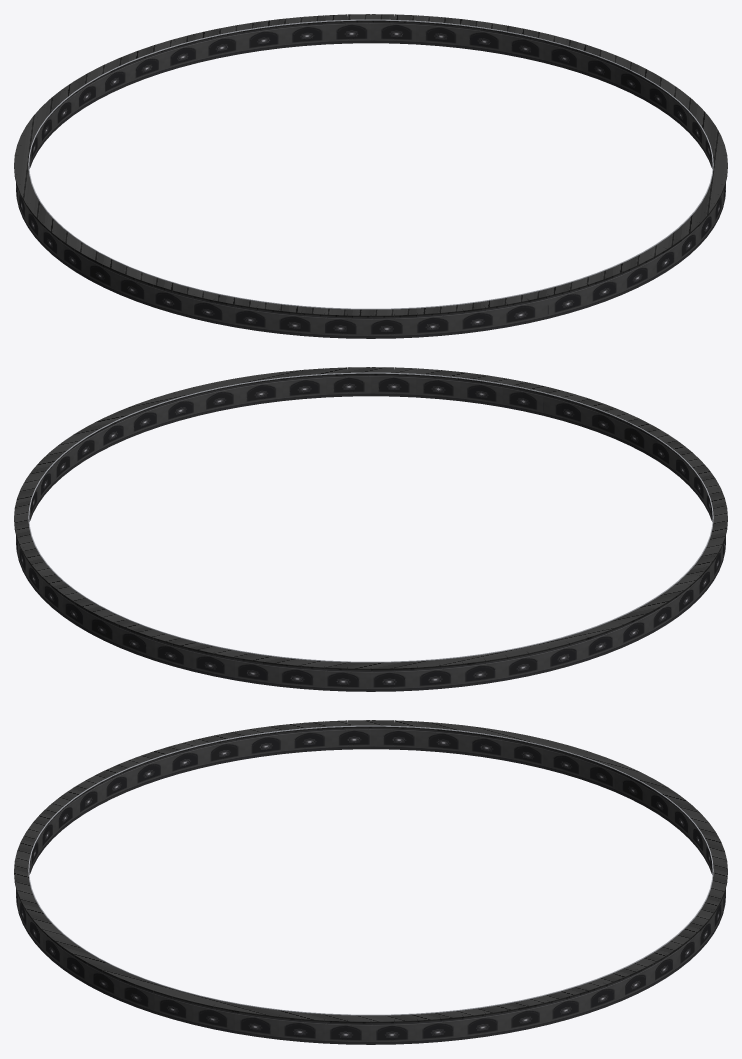
File: chamber_parapet.glb
The picture shows the model from 3 angles, top to bottom: view 1: azimuth 30°, elevation 25°; view 2: azimuth 150°, elevation 25°; view 3: azimuth 270°, elevation 25°; orthographic projection.
Parts seen in each view (by area): view 1: parapet, coping, fillet; view 2: parapet, coping, fillet; view 3: parapet, coping, fillet.
Boxes of the visible parts, x1=… form: parapet: x1=16, y1=22, x2=725, y2=338; coping: x1=14, y1=14, x2=727, y2=317; fillet: x1=28, y1=19, x2=713, y2=309; parapet: x1=16, y1=375, x2=725, y2=691; coping: x1=14, y1=367, x2=727, y2=670; fillet: x1=28, y1=372, x2=713, y2=662; parapet: x1=16, y1=728, x2=725, y2=1044; coping: x1=14, y1=720, x2=727, y2=1023; fillet: x1=28, y1=725, x2=713, y2=1015.
Size of the model in its own units: 46.95 by 1.77 by 46.95.
3 materials, 3 textured.
